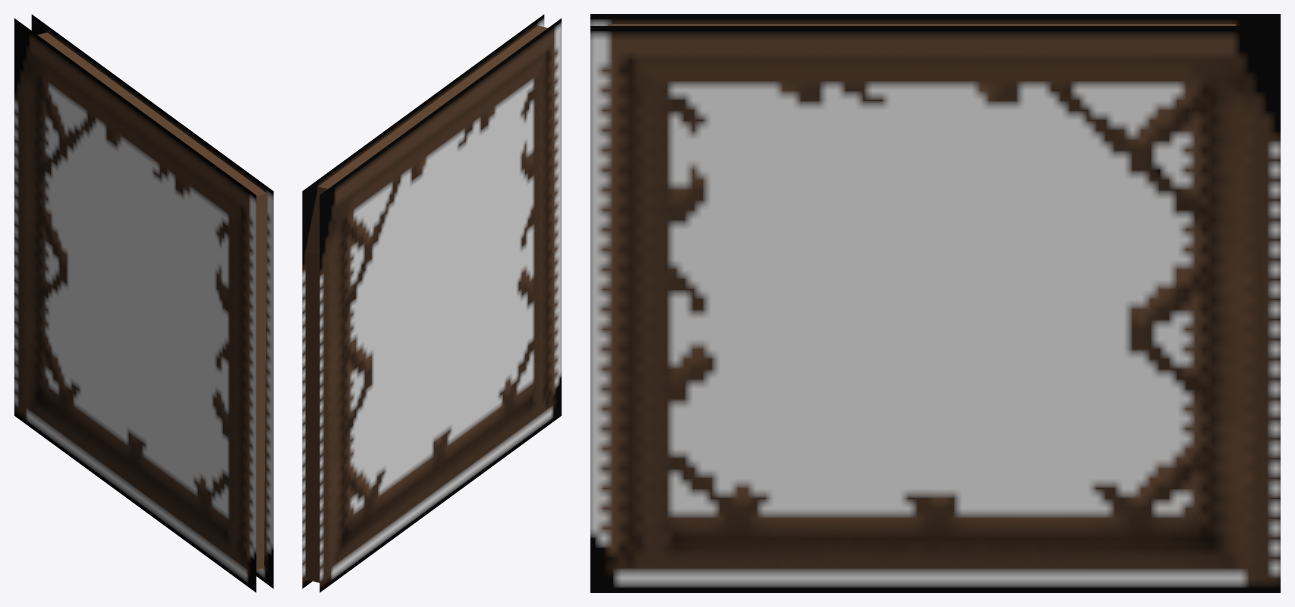
Rendered from pz_native_fixtures_windows_church_124_frame.obj.
The picture shows the model from 3 angles, left to right: view 1: azimuth 30°, elevation 25°; view 2: azimuth 150°, elevation 25°; view 3: azimuth 270°, elevation 25°; orthographic projection. The views are drawn at different scales.
Parts seen in each view (by area): view 1: pz_native_fixtures_windows_church_124_frame; view 2: pz_native_fixtures_windows_church_124_frame; view 3: pz_native_fixtures_windows_church_124_frame.
Boxes of the visible parts, x1,y1,x2,y2 form: pz_native_fixtures_windows_church_124_frame: (14, 14, 273, 592); pz_native_fixtures_windows_church_124_frame: (302, 14, 561, 592); pz_native_fixtures_windows_church_124_frame: (590, 14, 1280, 592).
Size of the model in its own units: 0.04 by 0.8906 by 0.9823.
Materials: 1 (1 with a texture image).
